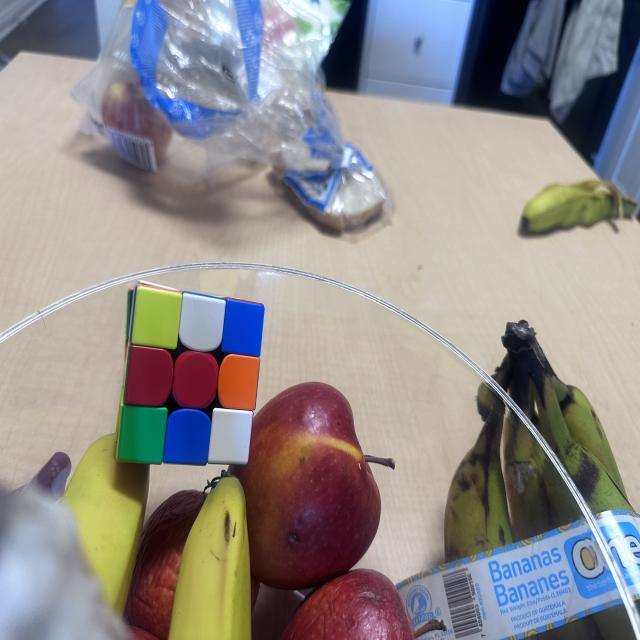sticker: (130, 283, 183, 351), (117, 403, 168, 466), (125, 344, 174, 408), (178, 291, 227, 354), (172, 350, 220, 410), (163, 408, 212, 466), (207, 407, 255, 465), (222, 296, 266, 358), (217, 353, 261, 412)
